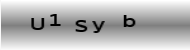1: (49, 13, 61, 27)
S: (74, 19, 88, 32)
U: (30, 17, 45, 31)
b: (122, 14, 137, 27)
y: (91, 20, 106, 33)
